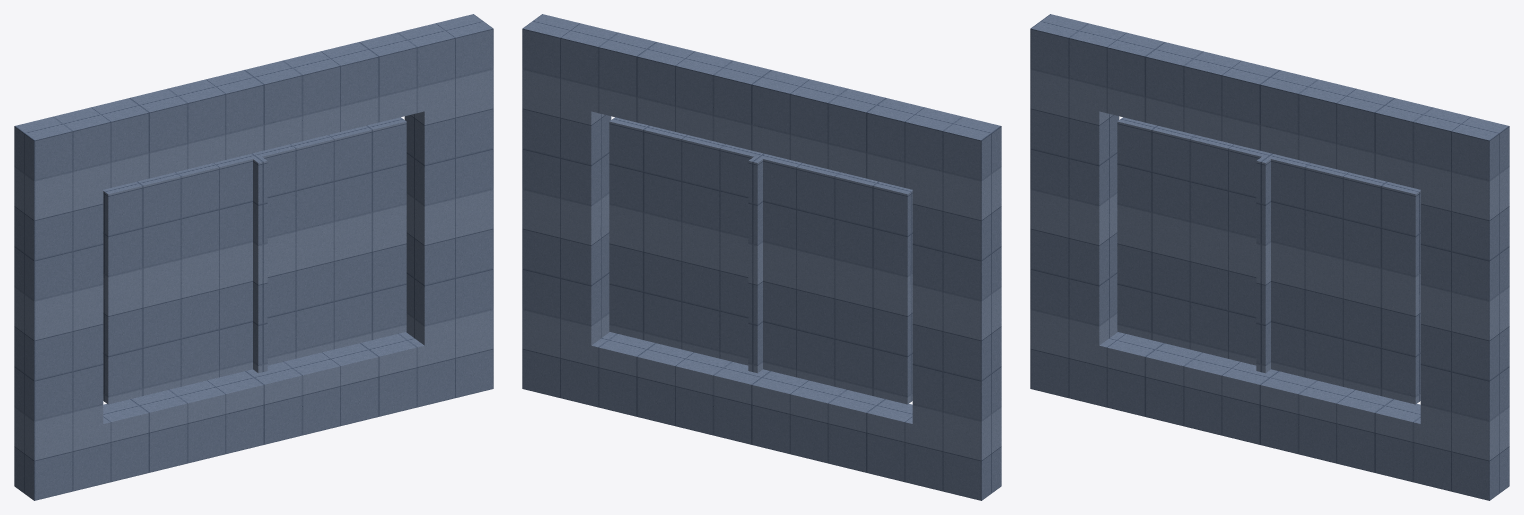
3 renders of one model, left to right at view 1: azimuth 30°, elevation 25°; view 2: azimuth 150°, elevation 25°; view 3: azimuth 330°, elevation 25°, orthographic.
Parts seen in each view (by area): view 1: win_double_1u_production_run001; view 2: win_double_1u_production_run001; view 3: win_double_1u_production_run001.
Part boxes in pixels (<box>): win_double_1u_production_run001: <box>14,14,493,500</box>; win_double_1u_production_run001: <box>522,14,1001,500</box>; win_double_1u_production_run001: <box>1030,14,1509,500</box>.
Bounding box in the file's own units: 4 × 3 × 0.3.
1 material, 1 textured.
